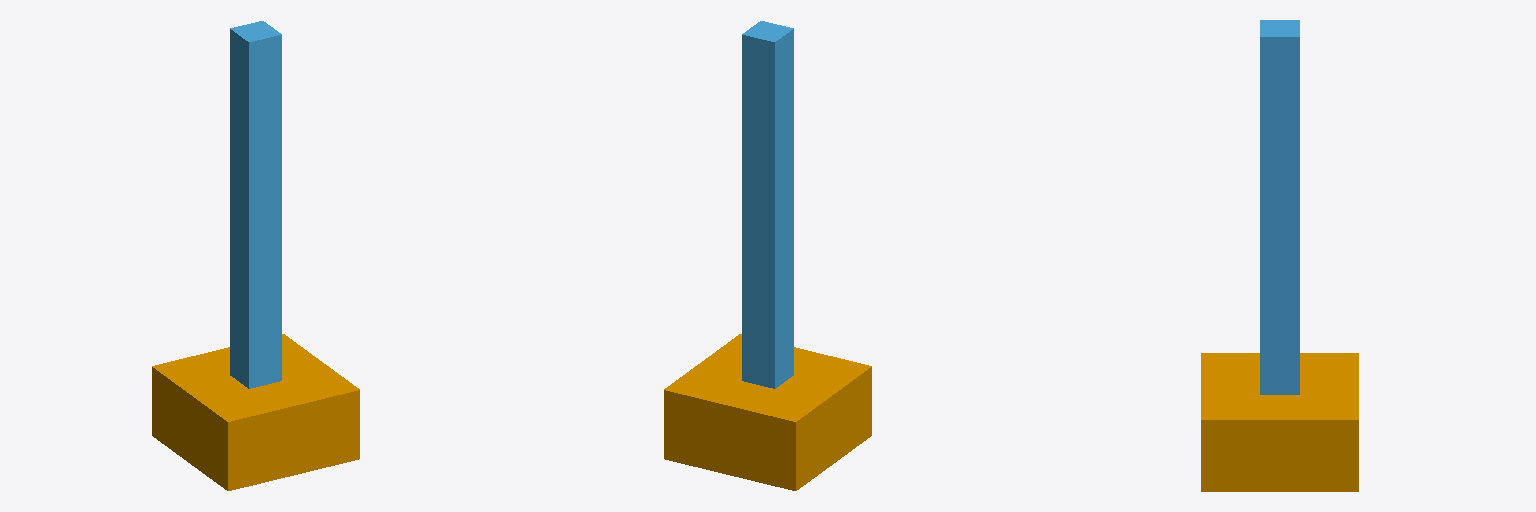
URDF robot description (simple_arm):
<?xml version="1.0" ?>
<robot name="simple_arm">
  <link name="base">
    <visual>
      <geometry>
        <mesh filename="../examples/simple_arm/meshes/base.obj"/>
      </geometry>
    </visual>
    <collision>
      <geometry>
        <mesh filename="../examples/simple_arm/meshes/base.obj"/>
      </geometry>
    </collision>
    <inertial>
      <origin xyz="0.0 0.0 0.05" rpy="0 0 0"/>
      <mass value="2.0"/>
      <inertia ixx="0.02" ixy="0.0" ixz="0.0" iyy="0.02" iyz="0.0" izz="0.02"/>
    </inertial>
  </link>
  <link name="arm">
    <visual>
      <geometry>
        <mesh filename="../examples/simple_arm/meshes/arm.obj"/>
      </geometry>
    </visual>
    <collision>
      <geometry>
        <mesh filename="../examples/simple_arm/meshes/arm.obj"/>
      </geometry>
    </collision>
    <inertial>
      <origin xyz="0.0 0.0 0.25" rpy="0 0 0"/>
      <mass value="1.5"/>
      <inertia ixx="0.015" ixy="0.0" ixz="0.0" iyy="0.015" iyz="0.0" izz="0.015"/>
    </inertial>
  </link>
  <joint name="shoulder" type="revolute">
    <parent link="base"/>
    <child link="arm"/>
    <origin xyz="0.0 0.0 0.1" rpy="0 0 0"/>
    <axis xyz="0.0 0.0 1.0"/>
    <limit lower="-1000000.0" upper="1000000.0" velocity="1000.0" effort="100.0"/>
  </joint>
</robot>

--- Facts derived from the render (not from the file) ---
The picture shows the robot from 3 angles, left to right: view 1: azimuth 30°, elevation 25°; view 2: azimuth 150°, elevation 25°; view 3: azimuth 270°, elevation 25°; orthographic projection.
Robot: simple_arm — 2 links, 1 joints (1 revolute); root link base; default pose: every joint at zero.
Visible links, largest first — view 1: base, arm; view 2: base, arm; view 3: base, arm.
Boxes of the visible links, left/top/right/bottom form: base: left=152, top=334, right=359, bottom=490; arm: left=230, top=21, right=281, bottom=388; base: left=664, top=334, right=871, bottom=490; arm: left=742, top=21, right=793, bottom=388; base: left=1201, top=353, right=1358, bottom=491; arm: left=1260, top=20, right=1299, bottom=394.
Bounding box of the posed robot: 0.2 × 0.2 × 0.6 m (x, y, z).
2 mesh visuals loaded from 2 distinct referenced files (2 OBJ).